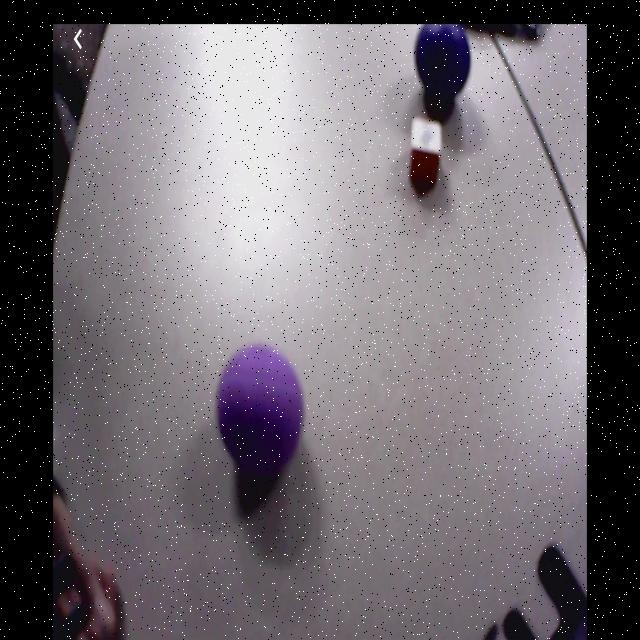ball: (220, 345, 303, 465), (417, 24, 472, 96)
